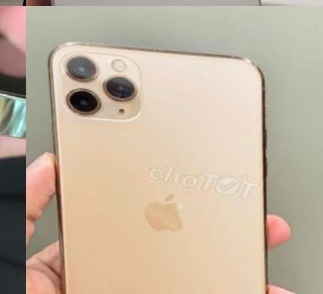scratch: (0, 6, 11, 146), (109, 80, 147, 106), (81, 51, 108, 76), (68, 98, 100, 119)
